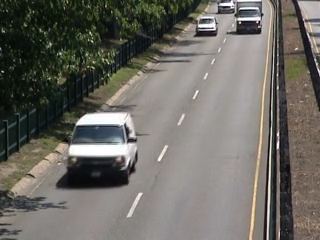car: (193, 15, 221, 37), (217, 1, 235, 15)
truck: (63, 109, 141, 188), (235, 1, 265, 37)
